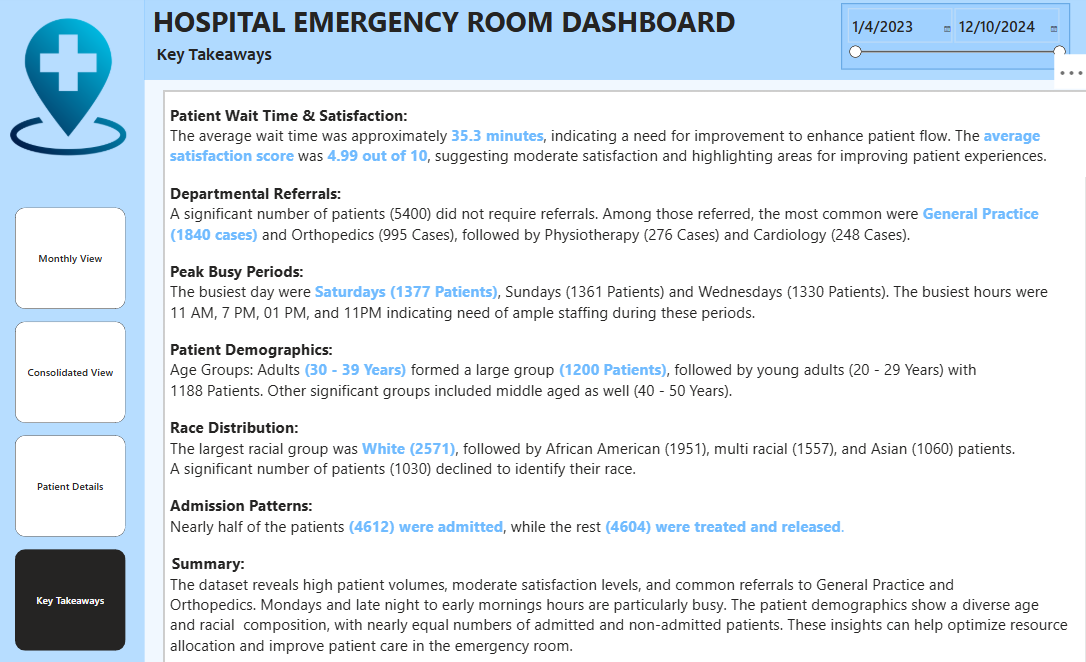

This screenshot's page, from the dashboard's own definition file:
{"tool":"powerbi","page":{"name":"Key Takeaways","canvas":[2300,1400],"ordinal":3},"visuals":[{"type":"shape","box":[0,0,310,1399],"z":0},{"type":"shape","box":[308.6,0,1986,170],"z":1000},{"type":"textbox","box":[308.6,0,1259.4,91.3],"z":2000},{"type":"textbox","box":[306.9,89.7,337.9,58.6],"z":3000},{"type":"slicer","fields":{"Values":["Date table.Date"]},"box":[1772.4,10.3,479.3,137.9],"z":4000},{"type":"image","box":[0,9.4,299.1,349.5],"z":5000},{"type":"textbox","box":[348.3,193.1,1948.3,1206.9],"z":6000},{"type":"pageNavigator","box":[37.8,437.6,233,932],"z":7000}]}

Visuals, with their boxes on the page's 2300x1400 design canvas (x1, y1, x2, y2). These are canvas units, not pixel positions in the 1086x662 screenshot, which may show the page scaled, cropped or inside an application window:
shape: {"x1": 0, "y1": 0, "x2": 310, "y2": 1399}
shape: {"x1": 309, "y1": 0, "x2": 2295, "y2": 170}
textbox: {"x1": 309, "y1": 0, "x2": 1568, "y2": 91}
textbox: {"x1": 307, "y1": 90, "x2": 645, "y2": 148}
slicer - Date table.Date: {"x1": 1772, "y1": 10, "x2": 2252, "y2": 148}
image: {"x1": 0, "y1": 9, "x2": 299, "y2": 359}
textbox: {"x1": 348, "y1": 193, "x2": 2297, "y2": 1400}
pageNavigator: {"x1": 38, "y1": 438, "x2": 271, "y2": 1370}
